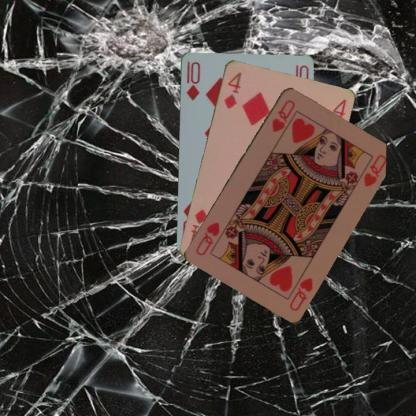10d: (184, 58, 201, 101)
4d: (220, 69, 242, 110)
Qh: (269, 96, 296, 134), (287, 274, 314, 312)
